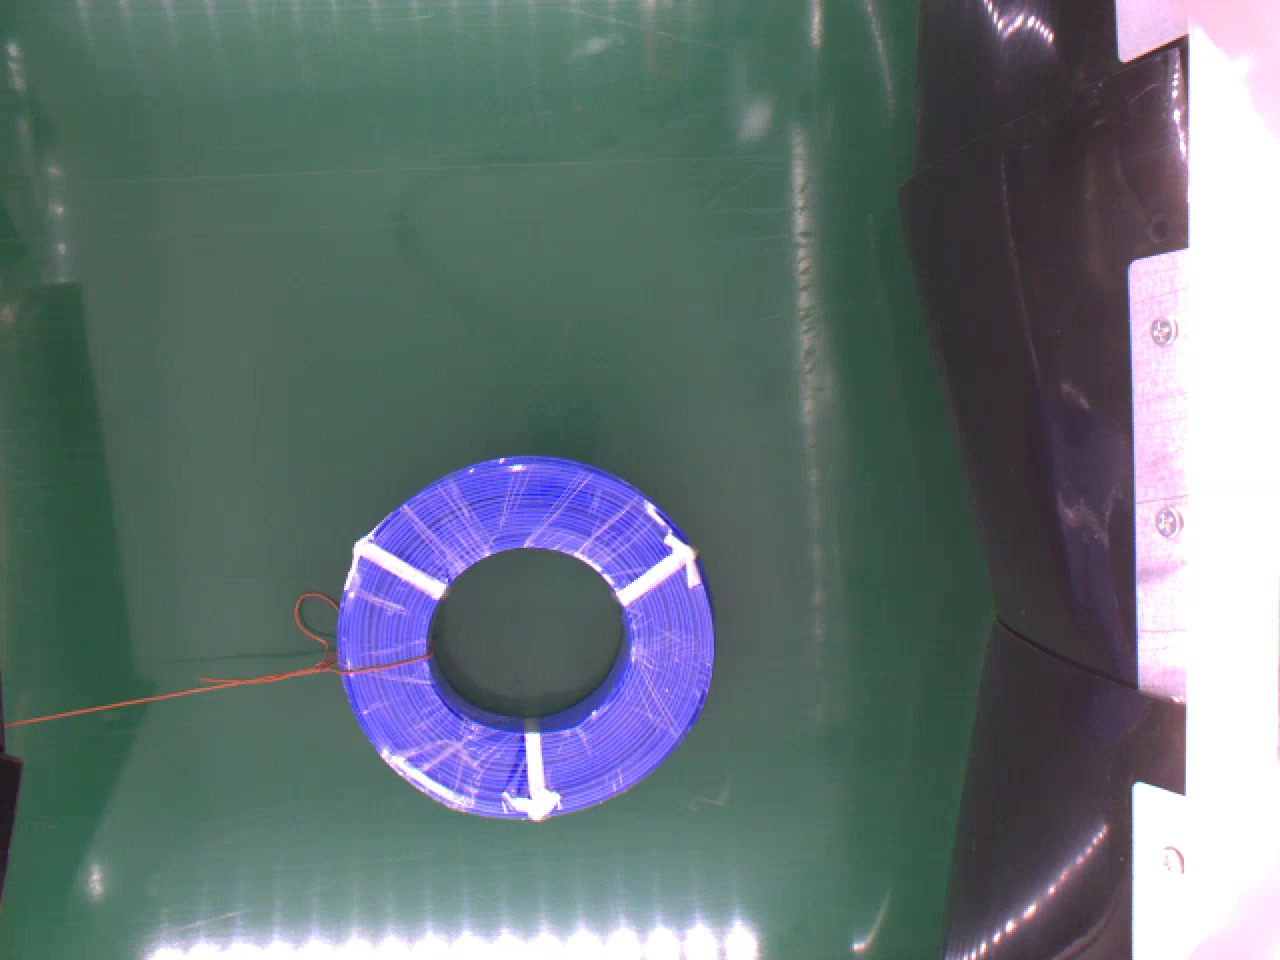blue: (333, 444, 712, 819)
